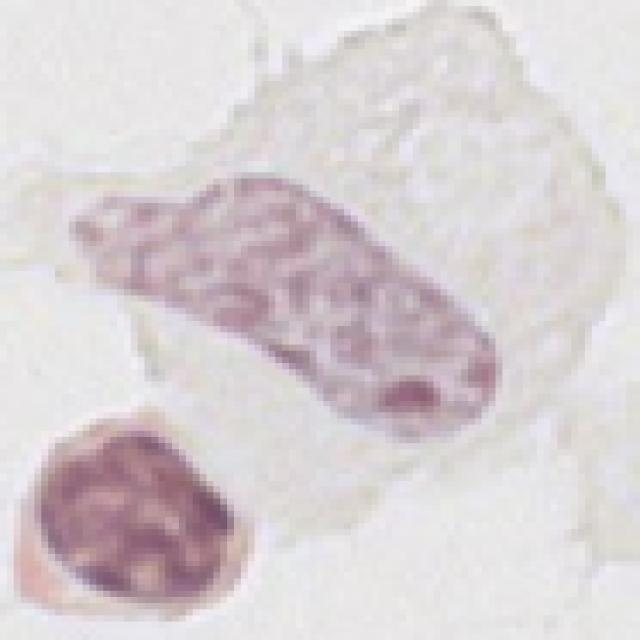cytoplasm: (0, 369, 282, 640)
nucleus: (59, 97, 535, 479), (29, 426, 241, 621)
